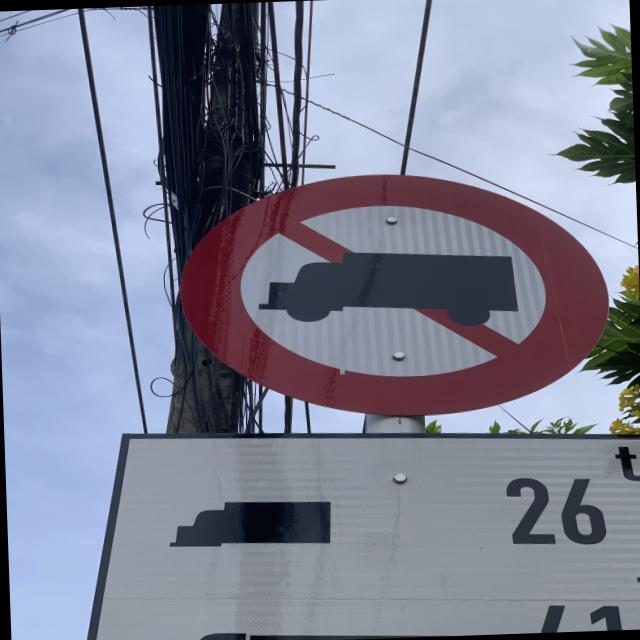Cam_Xe_Tai: (169, 165, 612, 425)
